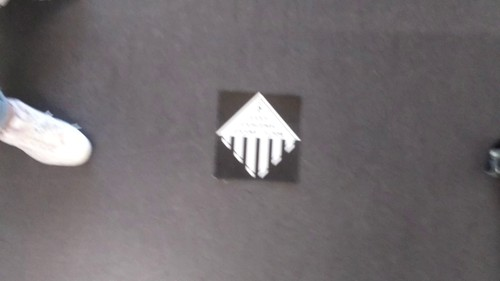misgoods: (218, 97, 302, 179)
